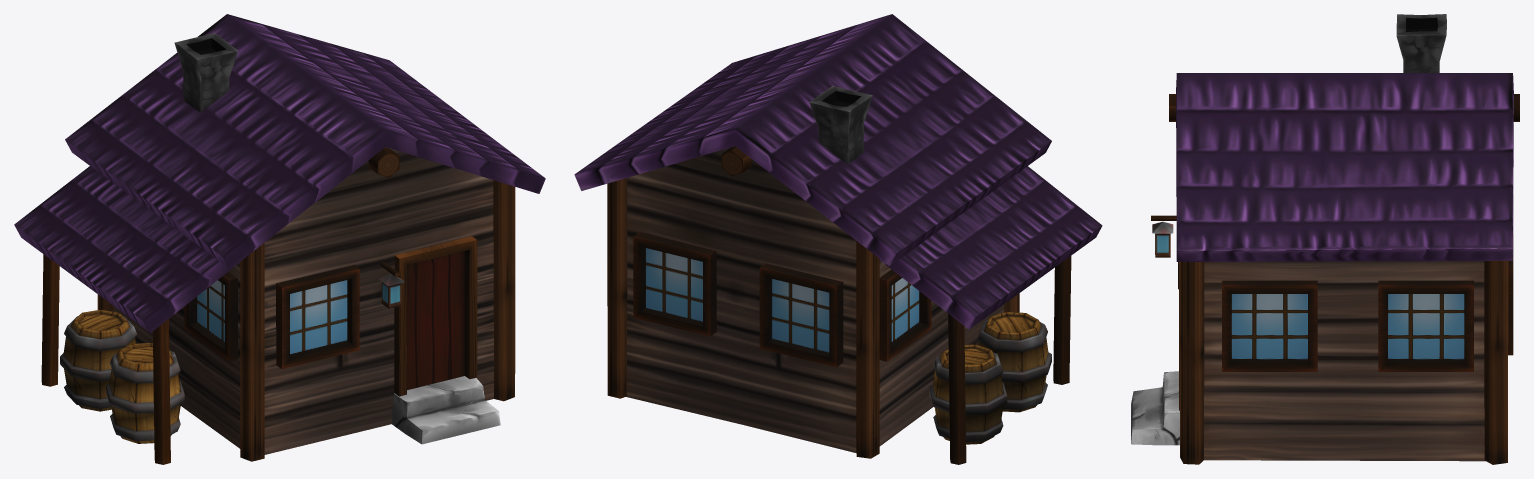
File: COTAGE-HOUSE2.fbx
3 views of the same model, side by side, from view 1: azimuth 30°, elevation 25°; view 2: azimuth 150°, elevation 25°; view 3: azimuth 270°, elevation 25° (orthographic). The views are drawn at different scales.
Parts seen in each view (by area): view 1: roof, WALLS, roof_2, DOOR, WINDOW_7, long_wood_2, stairs, BARREL, BARREL2, long_wood_1, CHIMNEY, WINDOW_2 (+4 smaller); view 2: roof, WALLS, roof_2, WINDOW, WINDOW_1, long_wood_3, BARREL2, BARREL, long_wood, WINDOW_3, CHIMNEY, wood_2 (+2 smaller); view 3: roof, WALLS, WINDOW_4, WINDOW_5, long_wood_1, long_wood, stairs, CHIMNEY, LAMP, WINDOW_1.
Part boxes in pixels (x1,y1,x2,y2): roof: [65, 14, 545, 269]; WALLS: [114, 147, 493, 454]; roof_2: [14, 166, 239, 332]; DOOR: [394, 236, 477, 396]; WINDOW_7: [276, 265, 359, 369]; long_wood_2: [240, 243, 264, 461]; stairs: [392, 376, 500, 444]; BARREL: [60, 309, 136, 411]; BARREL2: [106, 342, 184, 443]; long_wood_1: [493, 180, 515, 401]; CHIMNEY: [174, 33, 238, 112]; WINDOW_2: [184, 271, 237, 361]; roof: [574, 14, 1051, 266]; WALLS: [626, 146, 1003, 453]; roof_2: [879, 166, 1102, 329]; WINDOW: [759, 263, 843, 367]; WINDOW_1: [633, 232, 716, 336]; long_wood_3: [856, 241, 879, 458]; BARREL2: [977, 312, 1051, 412]; BARREL: [929, 344, 1007, 444]; long_wood: [607, 178, 627, 398]; WINDOW_3: [879, 269, 931, 361]; CHIMNEY: [809, 86, 872, 163]; wood_2: [948, 313, 966, 464]; roof: [1176, 73, 1513, 261]; WALLS: [1204, 261, 1485, 461]; WINDOW_4: [1378, 280, 1473, 371]; WINDOW_5: [1222, 280, 1317, 371]; long_wood_1: [1179, 262, 1204, 464]; long_wood: [1484, 261, 1508, 464]; stairs: [1131, 371, 1179, 445]; CHIMNEY: [1396, 14, 1446, 72]; LAMP: [1152, 221, 1173, 257]; WINDOW_1: [1508, 235, 1513, 355].
Size of the model in its own units: 618 by 481 by 501.
11 materials, 10 textured.
